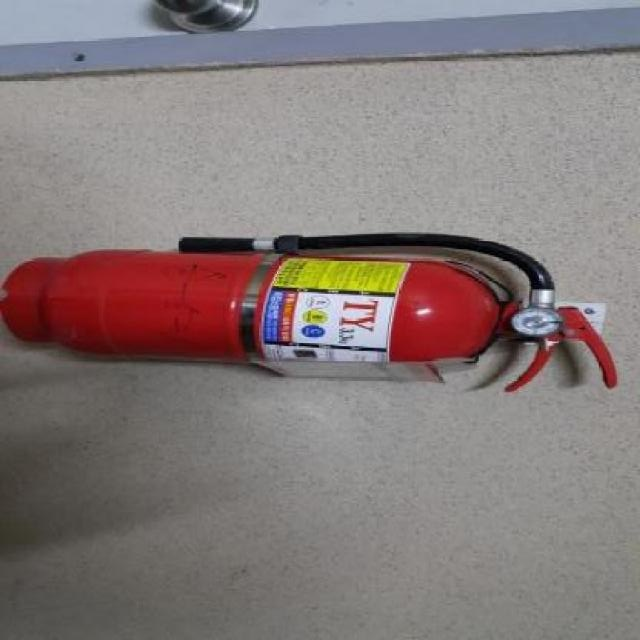fire extinguisher: (0, 231, 619, 391)
